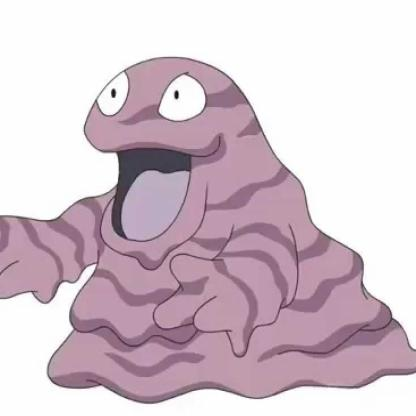Grimer: (1, 52, 416, 404)
